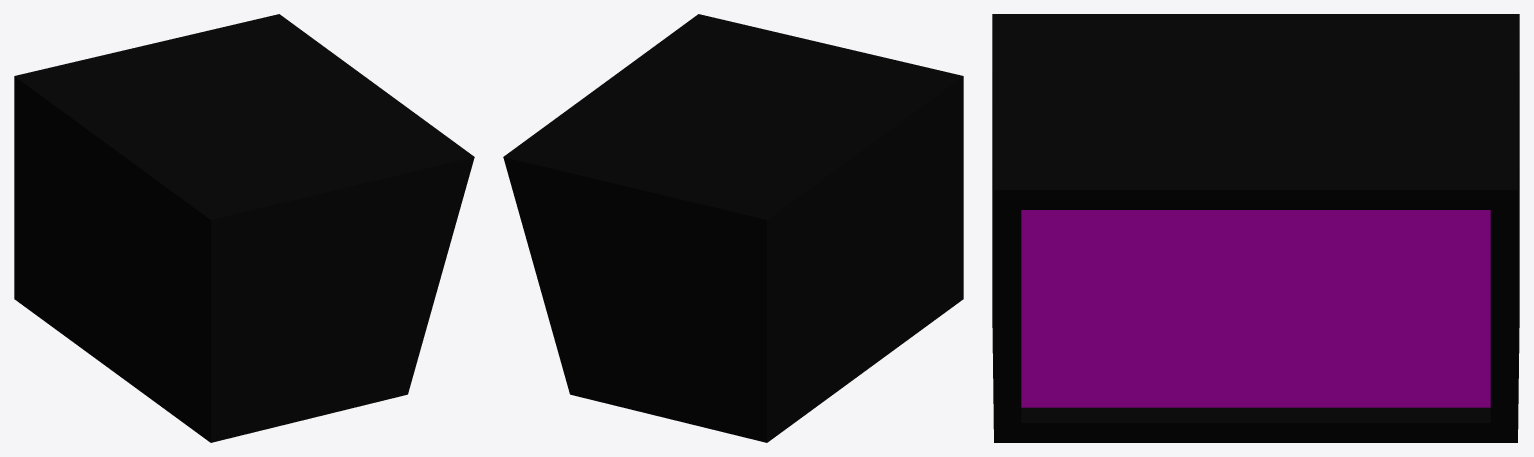
Rendered from Switch.glb.
The picture shows the model from 3 angles, left to right: view 1: azimuth 30°, elevation 25°; view 2: azimuth 150°, elevation 25°; view 3: azimuth 270°, elevation 25°; orthographic projection. The views are drawn at different scales.
Parts seen in each view (by area): view 1: switch; view 2: switch; view 3: switch.
Boxes of the visible parts, x1=… form: switch: x1=14, y1=14, x2=474, y2=442; switch: x1=503, y1=14, x2=963, y2=442; switch: x1=992, y1=14, x2=1519, y2=442.
Bounding box in the file's own units: 0.1159 × 0.0935 × 0.1492.
